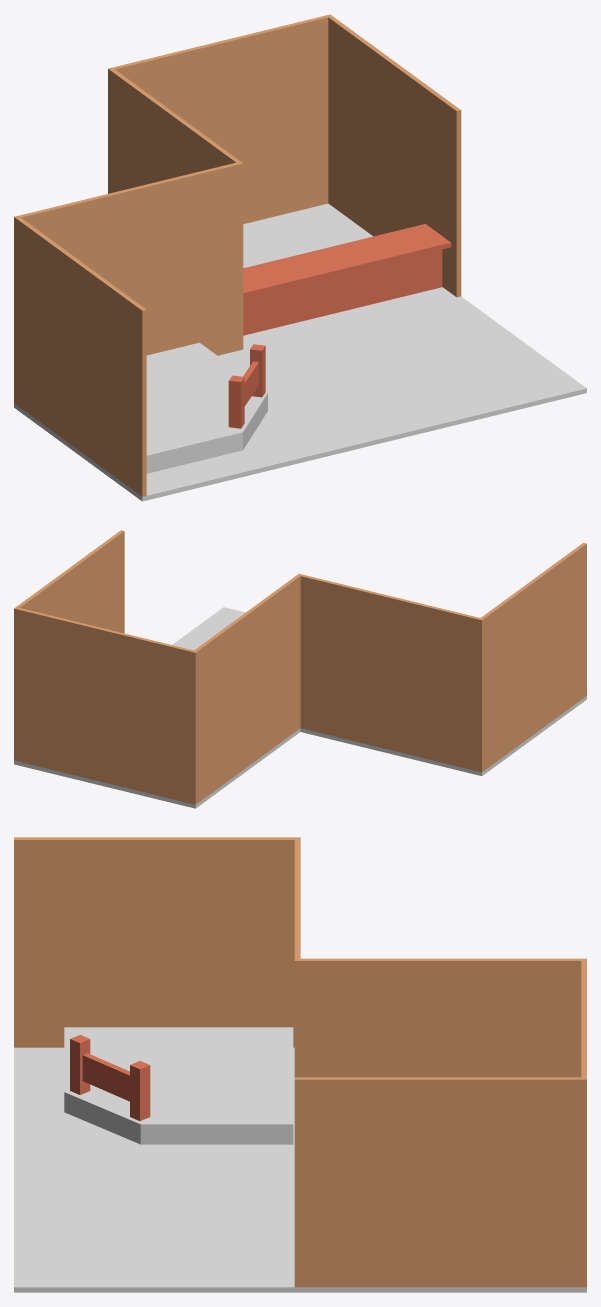
Rendered from room2.glb.
3 views of the same model, one above another, from view 1: azimuth 30°, elevation 25°; view 2: azimuth 150°, elevation 25°; view 3: azimuth 270°, elevation 25° (orthographic). The views are drawn at different scales.
Visible parts, largest first — view 1: Cube.004, Cube.003, Cube.001, Cube, Cube.002, Cube.011; view 2: Cube.004, Cube.003; view 3: Cube.004, Cube.003, Cube.001, Cube.011.
Boxes of the visible parts, left/top/right/bottom form: Cube.004: left=14, top=14, right=461, bottom=496; Cube.003: left=14, top=203, right=586, bottom=501; Cube.001: left=146, top=342, right=267, bottom=473; Cube: left=243, top=249, right=442, bottom=335; Cube.002: left=243, top=224, right=451, bottom=297; Cube.011: left=228, top=344, right=265, bottom=428; Cube.004: left=14, top=530, right=586, bottom=804; Cube.003: left=14, top=607, right=586, bottom=808; Cube.004: left=14, top=837, right=586, bottom=1287; Cube.003: left=14, top=1047, right=586, bottom=1292; Cube.001: left=64, top=1027, right=293, bottom=1144; Cube.011: left=70, top=1034, right=150, bottom=1120.
Size of the model in its own units: 10 by 4.1 by 10.
